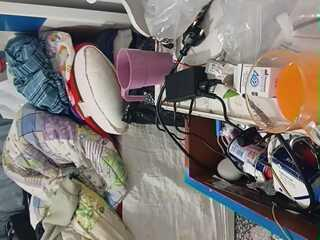cup: (127, 183, 252, 239), (143, 184, 241, 230), (184, 87, 255, 130), (201, 86, 255, 98)
